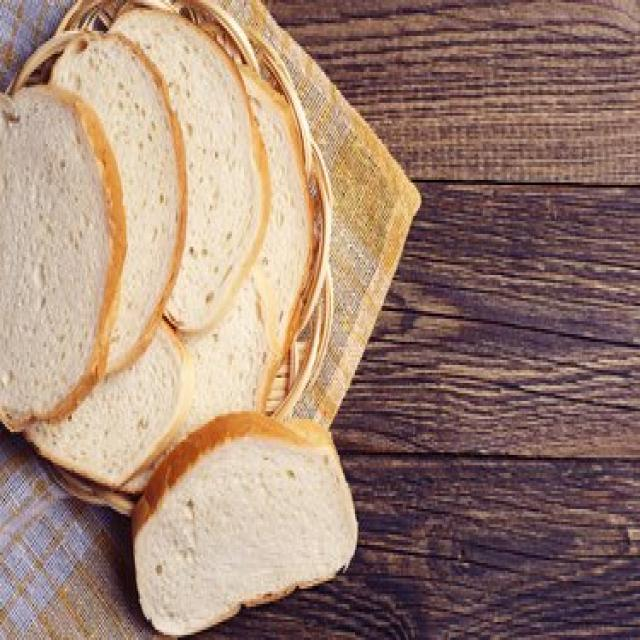Bread: (175, 70, 311, 443), (111, 13, 270, 332), (50, 34, 186, 372), (134, 441, 358, 633), (0, 87, 125, 430), (25, 322, 191, 489)
